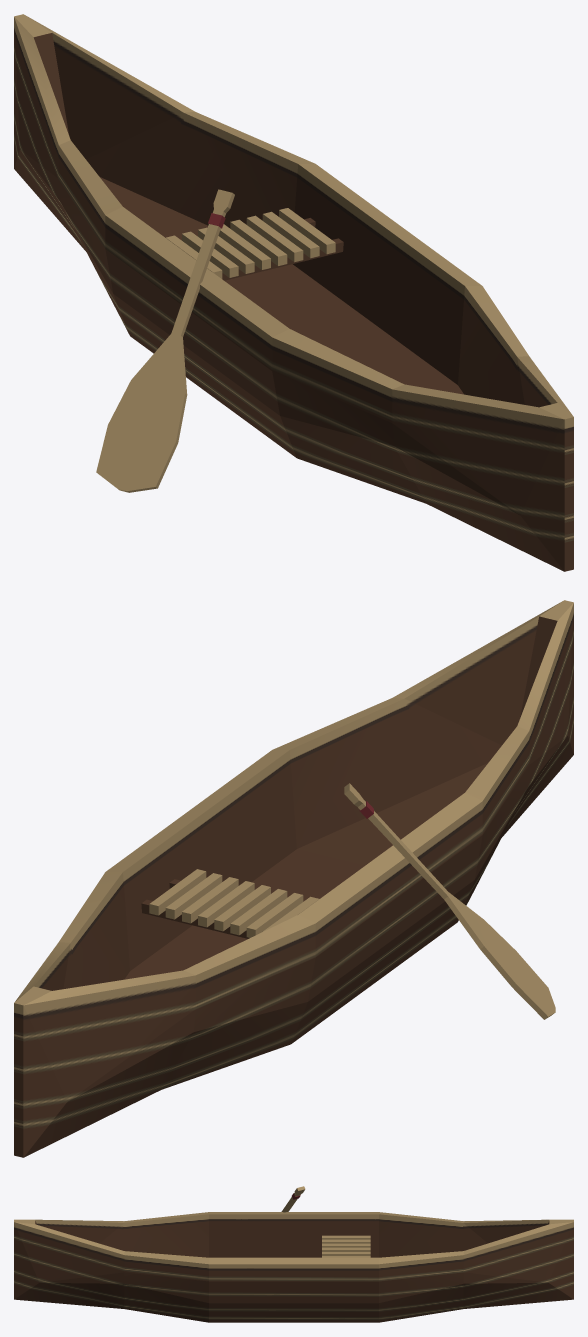
File: Canoe 1 and Paddle.gltf
3 renders of one model, top to bottom at view 1: azimuth 30°, elevation 25°; view 2: azimuth 150°, elevation 25°; view 3: azimuth 270°, elevation 25°, orthographic. The views are drawn at different scales.
Visible parts, largest first — view 1: node-0; view 2: node-0; view 3: node-0.
Part boxes in pixels (x1,y1,x2,y2): node-0: (14,14,573,571); node-0: (14,600,573,1157); node-0: (14,1186,573,1322).
Size of the model in its own units: 205 by 134 by 589.
Materials: 1 (1 with a texture image).
